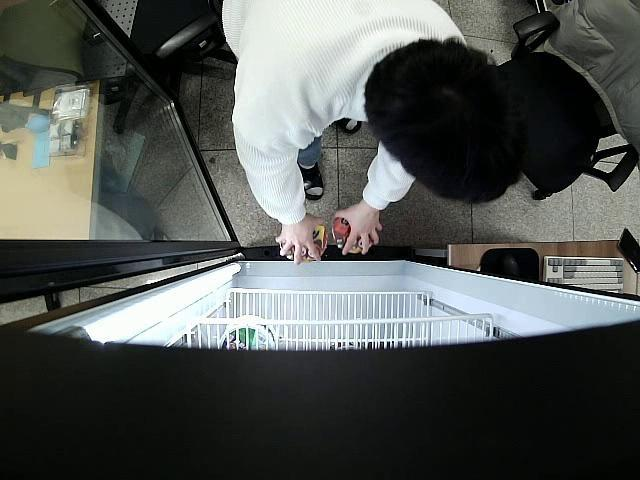05_nuguri_L: (279, 223, 327, 263), (330, 214, 373, 253)
